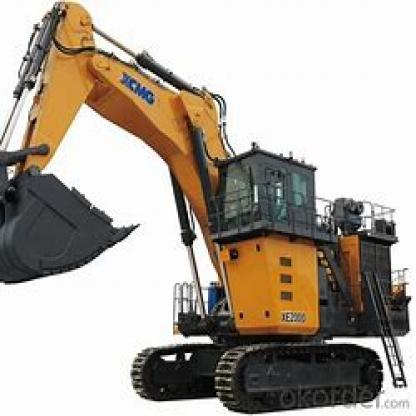excavator: (0, 3, 414, 414)
